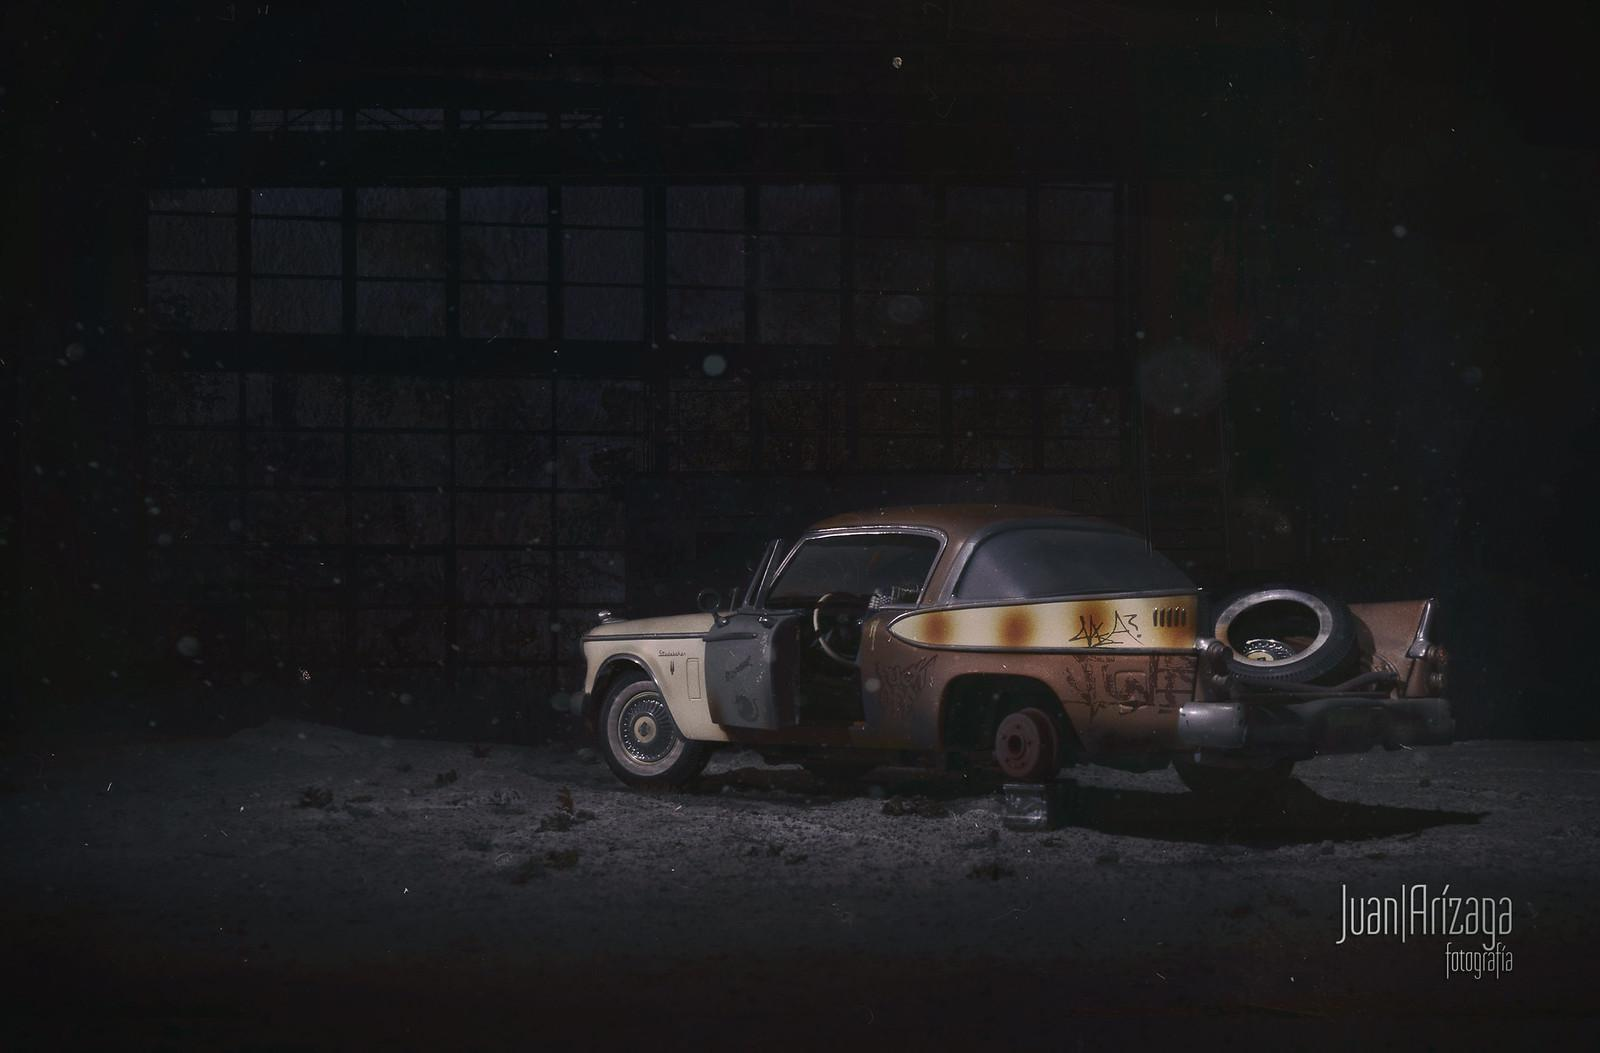doorouter-dent: (705, 590, 867, 763)
